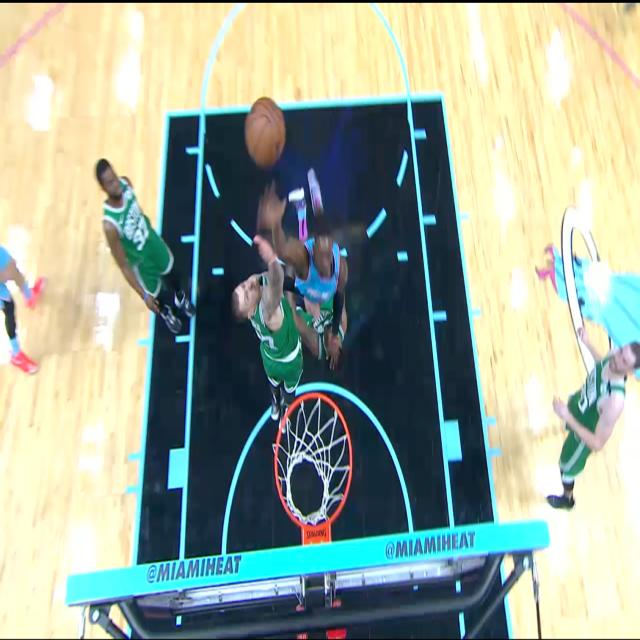Foul: (296, 228, 350, 382)
